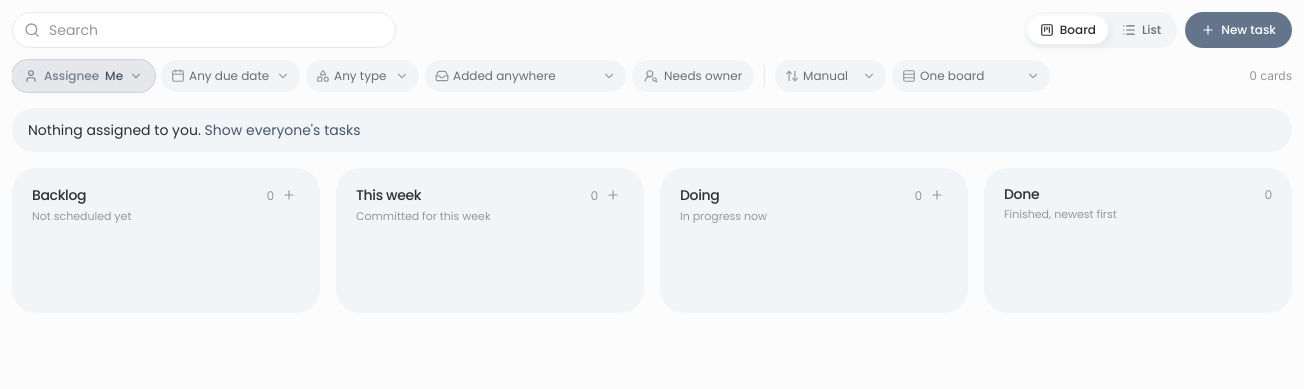
it: TaskBoard: whose cards › a card added under Me starts assigned to the viewer, so it stays in sight
The image size is (1304, 389).
Click the button named "Add a card to Backlog" at (289, 195), box [278,184,300,206]
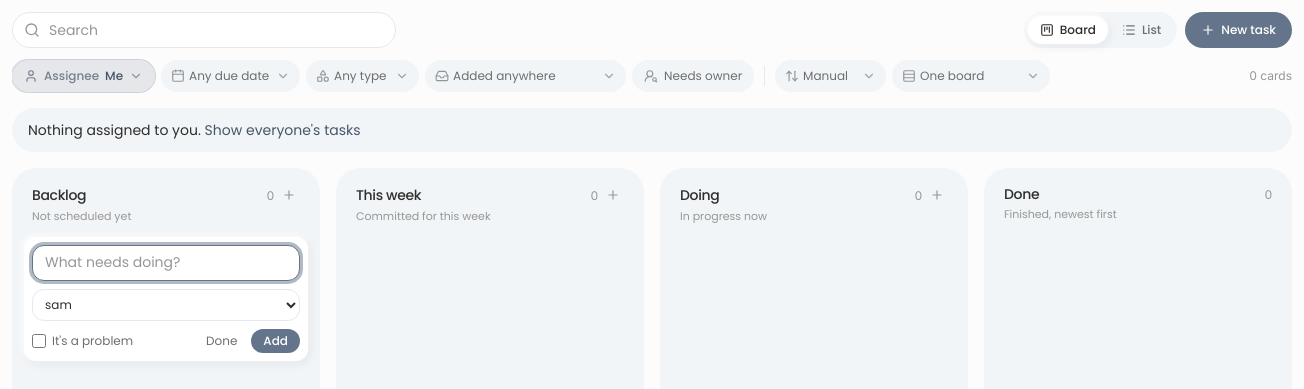
Result: the dropdown named "Assignee" shows "sam" at [32,288,300,320]
